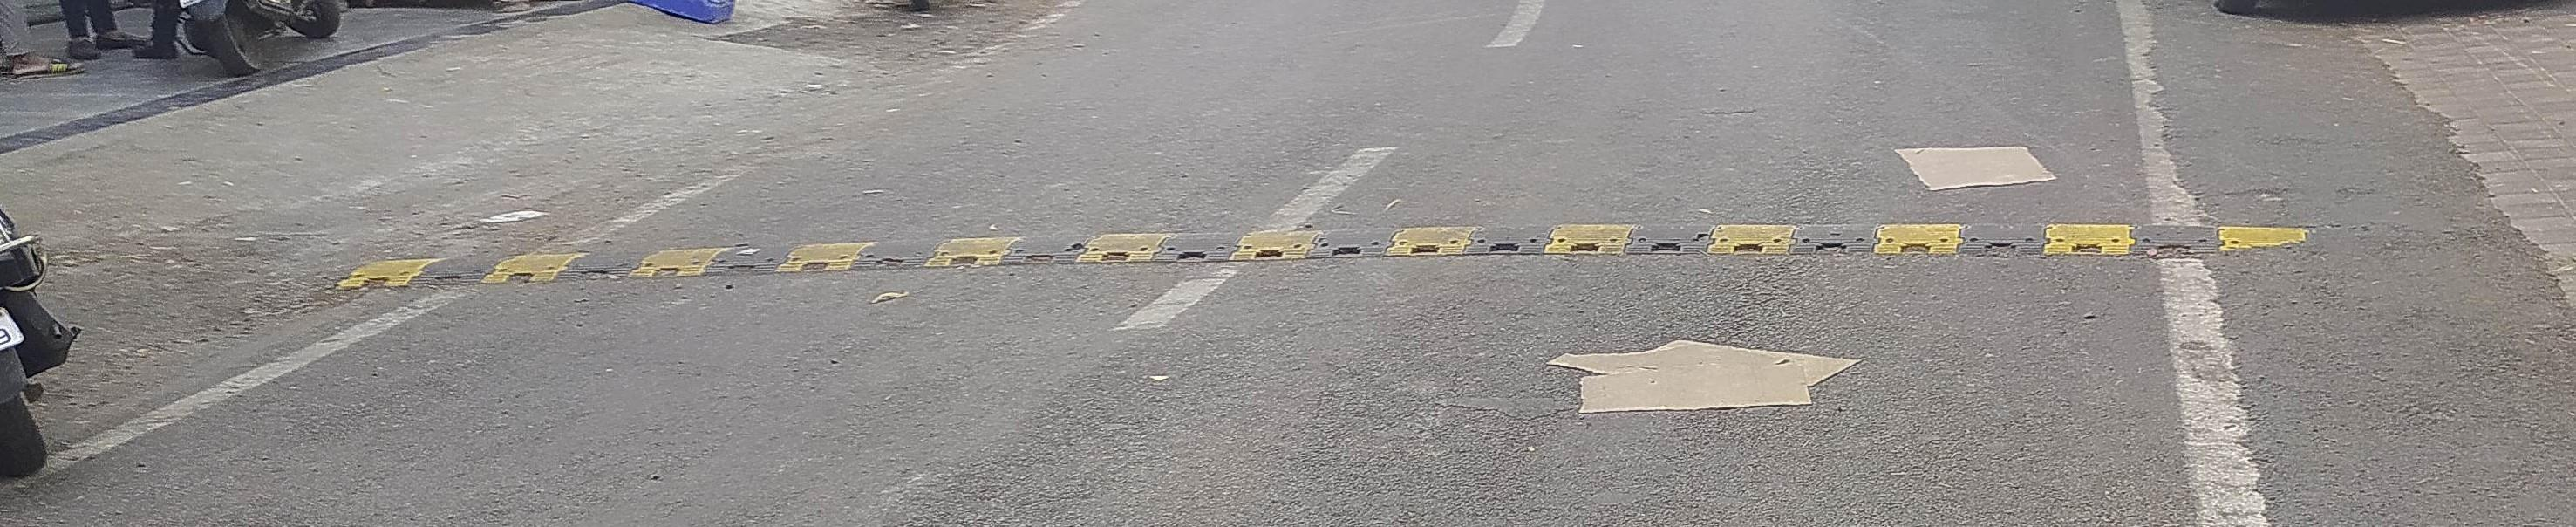speed-bump: (349, 216, 2437, 299)
